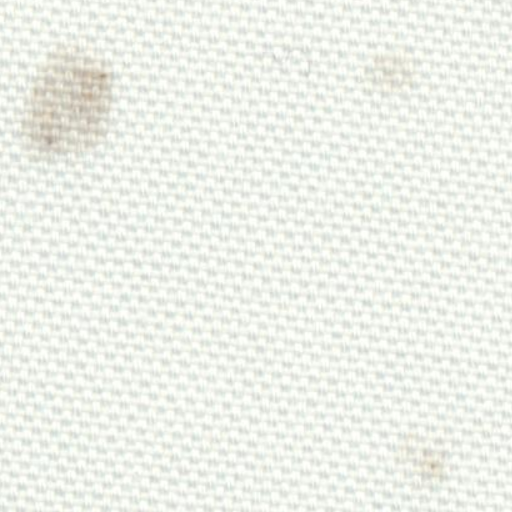WuZi: (12, 38, 148, 186), (352, 34, 438, 114), (393, 420, 464, 490)
